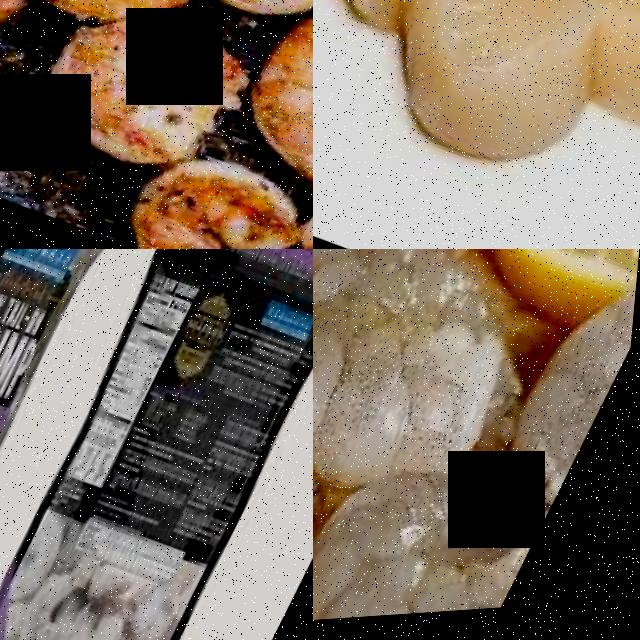sea scallops: (363, 0, 622, 179), (557, 0, 640, 160)
shrimp: (8, 565, 104, 640)
spinach: (313, 249, 553, 489), (313, 439, 564, 626), (25, 0, 250, 185), (125, 138, 313, 249), (236, 17, 313, 215), (0, 0, 218, 44)
